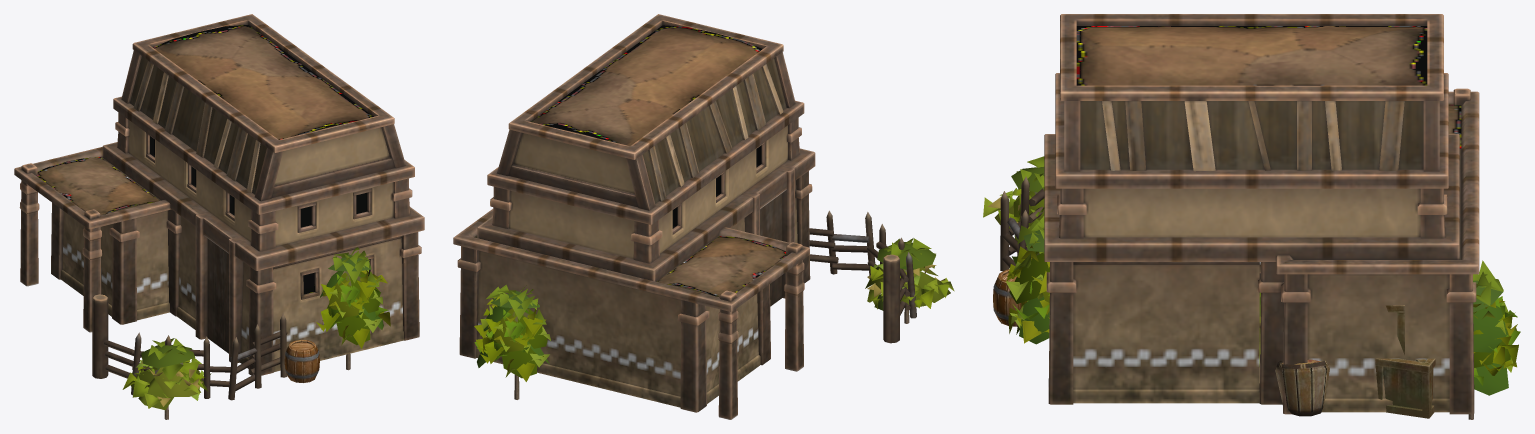
File: 11-manor.glb
3 renders of one model, left to right at view 1: azimuth 30°, elevation 25°; view 2: azimuth 150°, elevation 25°; view 3: azimuth 270°, elevation 25°, orthographic. The views are drawn at different scales.
Bounding box in the file's own units: 6.2 × 4.8 × 6.9.
7 materials, 7 textured.
